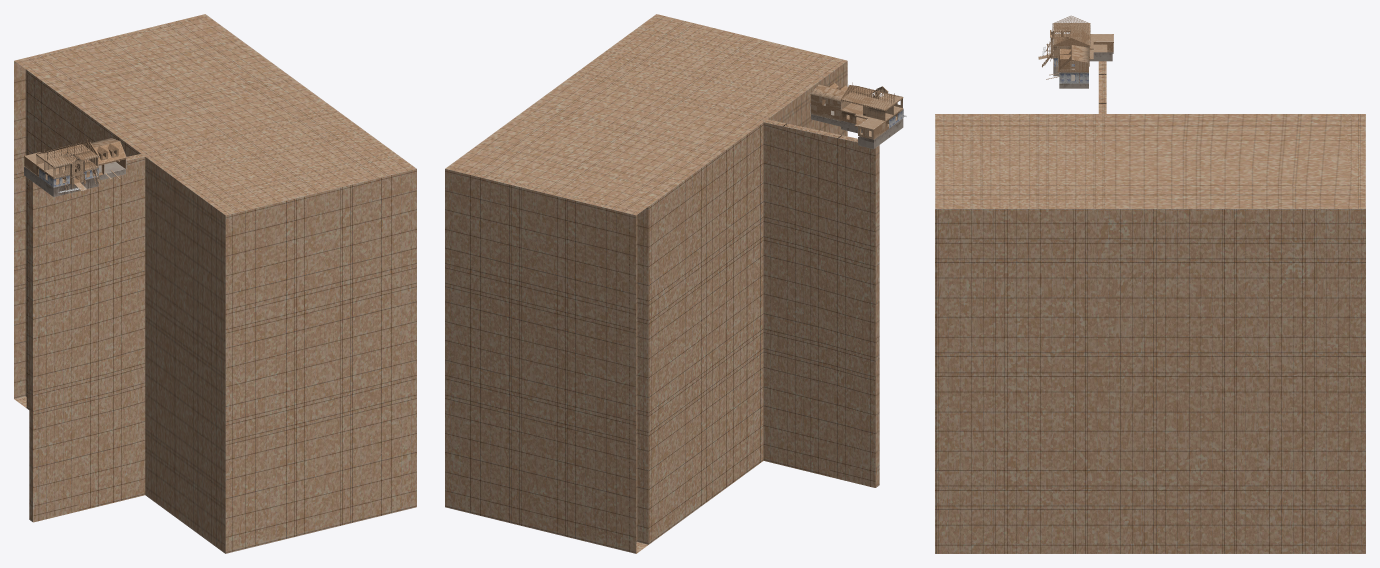
The model's file is HOUSE4.glb.
3 renders of one model, left to right at view 1: azimuth 30°, elevation 25°; view 2: azimuth 150°, elevation 25°; view 3: azimuth 270°, elevation 25°, orthographic.
Parts seen in each view (by area): view 1: basementsteps, houseframe.001, basement.001, woodgrid.001; view 2: basementsteps, houseframe.001, basement.001; view 3: basementsteps, houseframe.001.
Part boxes in pixels (x1,y1,x2,y2): basementsteps: (14, 14, 416, 553); houseframe.001: (24, 138, 126, 190); basement.001: (24, 161, 125, 196); woodgrid.001: (36, 150, 119, 187); basementsteps: (445, 14, 879, 553); houseframe.001: (810, 82, 903, 139); basement.001: (811, 104, 903, 148); basementsteps: (935, 61, 1365, 553); houseframe.001: (1038, 15, 1113, 83).
Size of the model in its own units: 86.3 by 103 by 104.
Materials: 12 (9 with a texture image).
